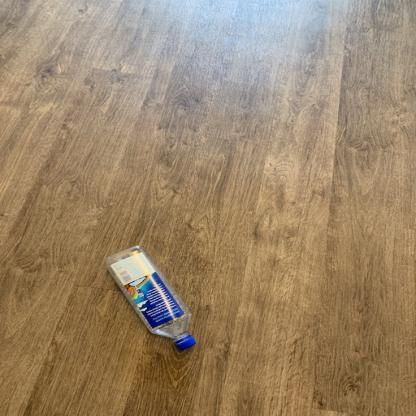trash: (104, 245, 202, 353)
